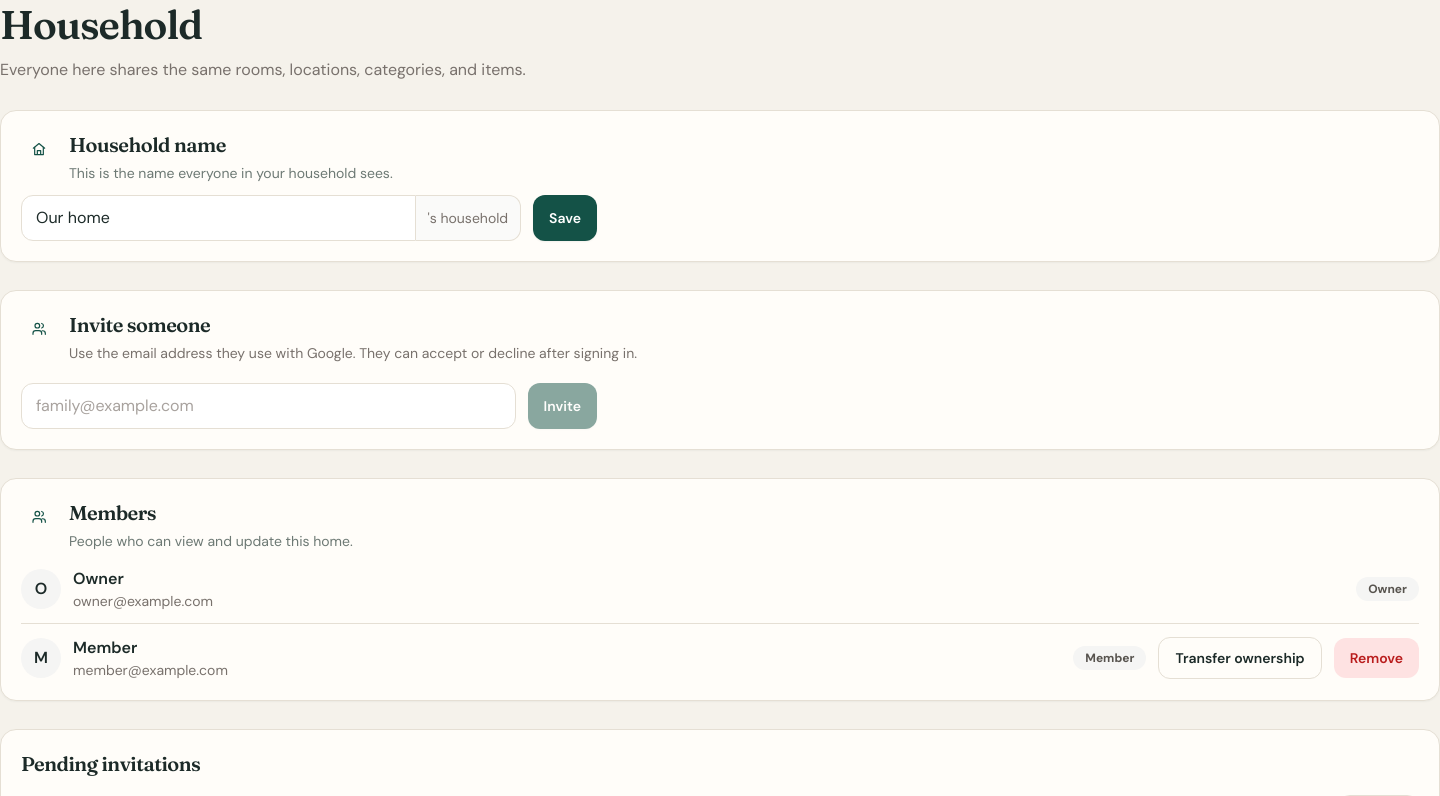
Test case: HouseholdPage › keeps owner controls and displays a failed transfer in the dialog
Click the button with aria-label "Transfer ownership to Member".
click(1240, 658)  # box [1158,637,1322,679]
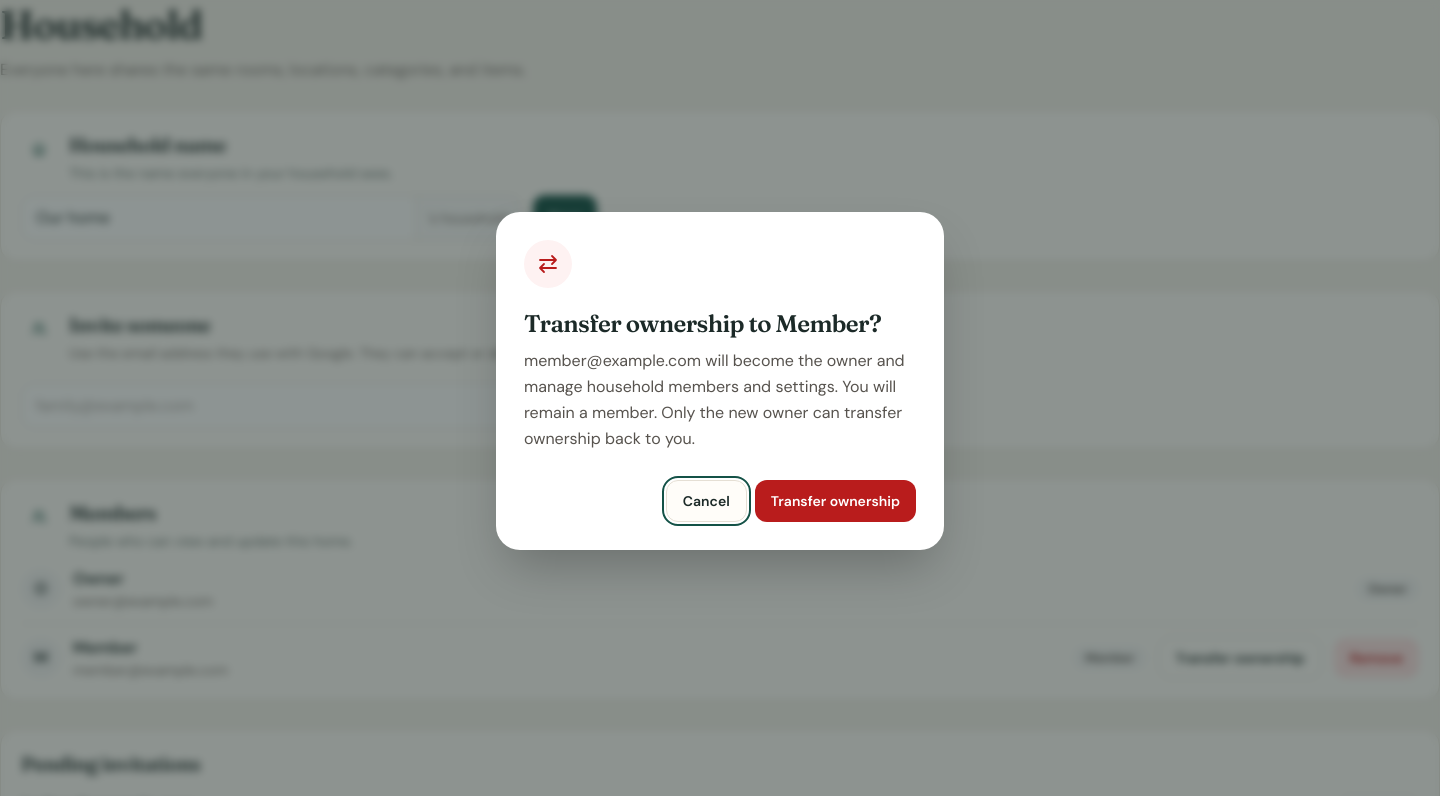
Click the button "Transfer ownership".
click(835, 501)  # box [755,480,916,522]
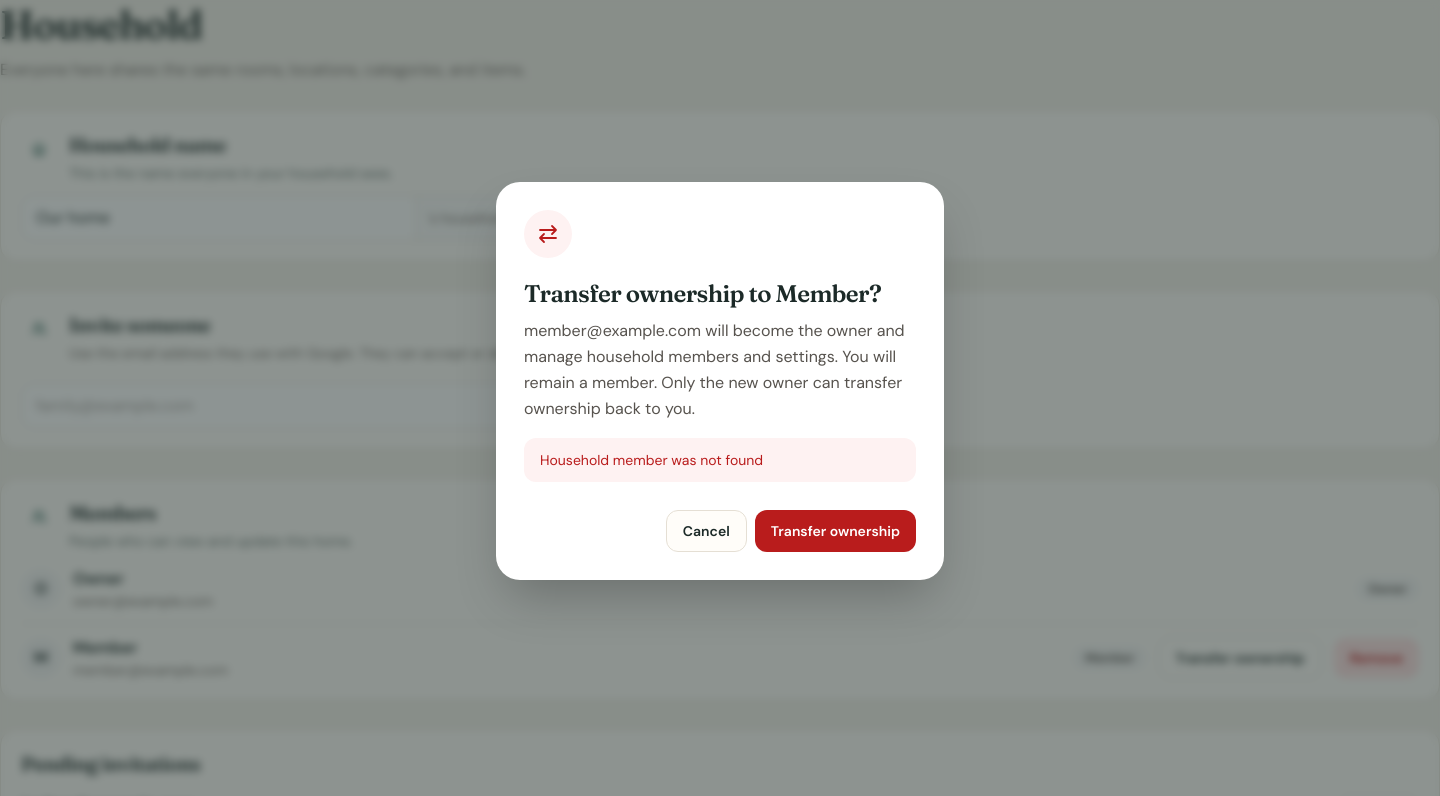
expect the button "Save" is shown: met, box [533,195,597,241]
expect the message reads "Household member was not found": met, box [540,451,763,469]
